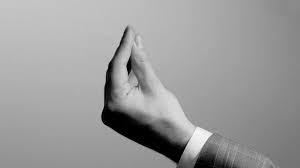Italian-Gesture: (100, 22, 190, 160)
